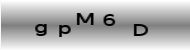6: (102, 13, 115, 27)
D: (132, 22, 148, 37)
M: (75, 11, 96, 26)
g: (34, 22, 48, 38)
p: (56, 24, 72, 39)
